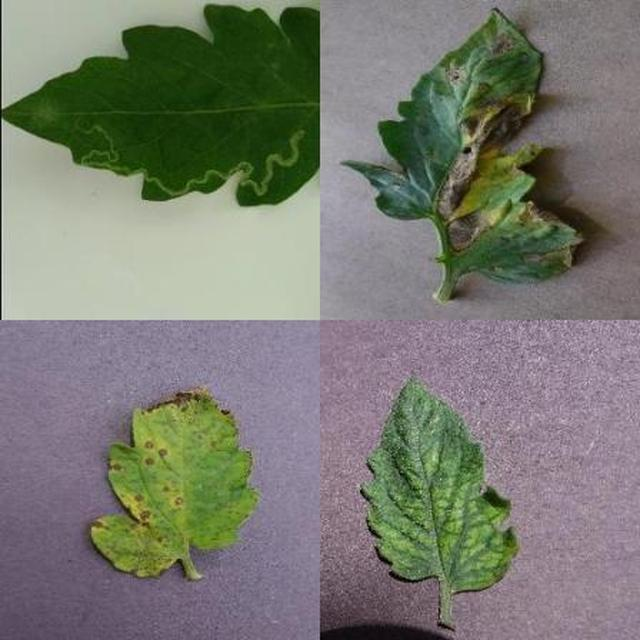Leaf Miner: (224, 153, 640, 640)
